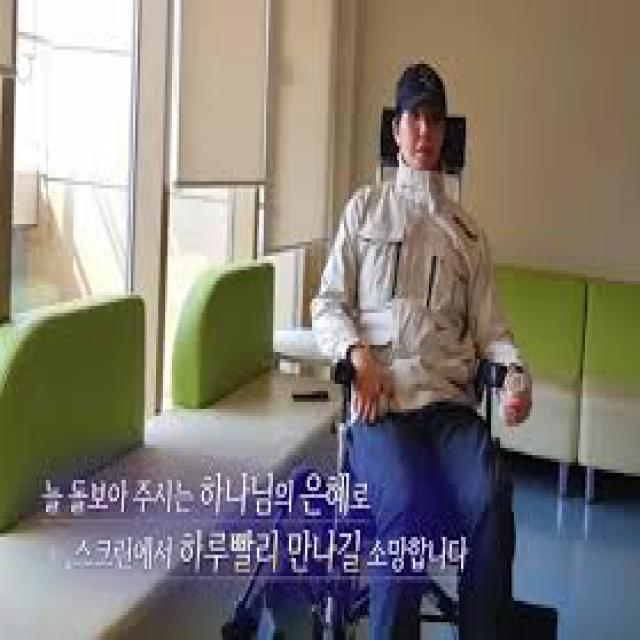wheelchairs: (307, 214, 553, 636)
